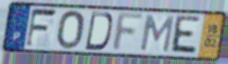D: (83, 10, 114, 52)
E: (168, 14, 202, 57)
F: (109, 11, 147, 54), (24, 7, 59, 50)
M: (138, 14, 176, 54)
O: (56, 9, 86, 51)
